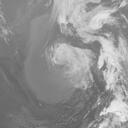cyclone: (47, 22, 105, 88)
